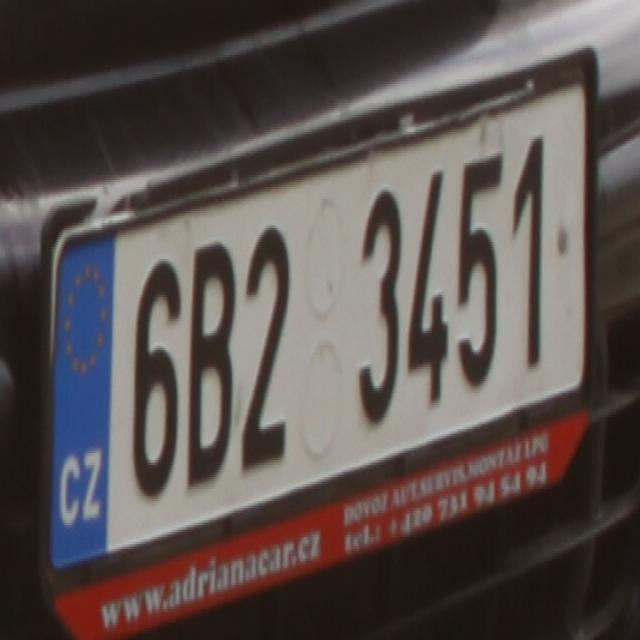1: (512, 122, 547, 376)
2: (241, 220, 288, 470)
3: (358, 187, 400, 424)
4: (404, 172, 452, 408)
5: (455, 154, 506, 384)
6: (127, 254, 179, 491)
B: (183, 232, 236, 494)
